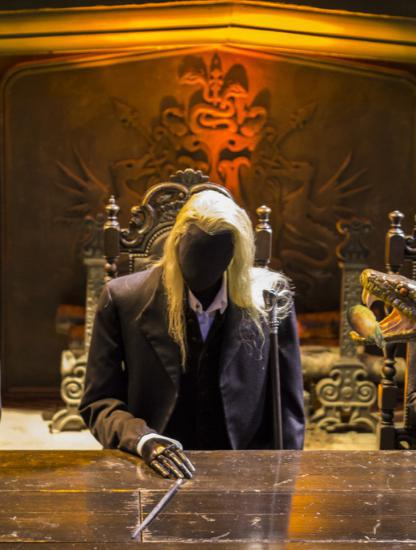Cactus: (341, 300, 396, 355)
